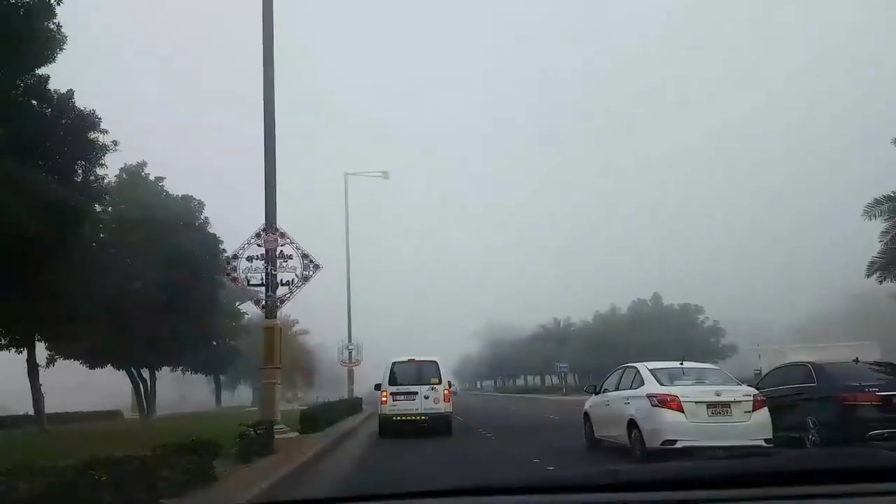car: (578, 354, 775, 462), (735, 353, 896, 458), (373, 355, 454, 438)
